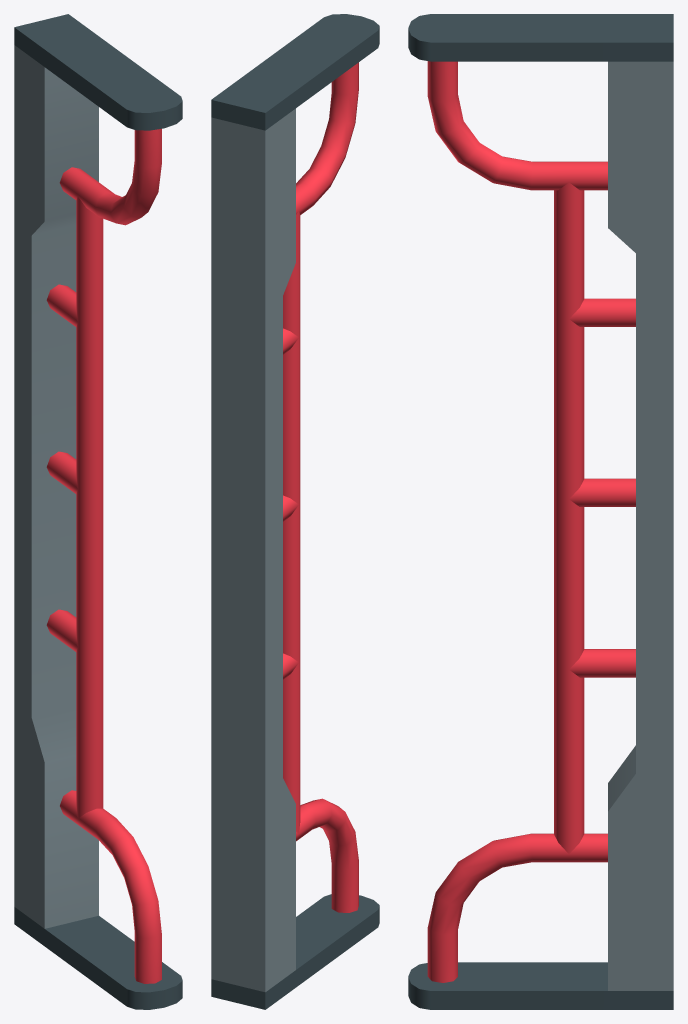
Rendered from Column_007.glb.
3 renders of one model, left to right at view 1: azimuth 30°, elevation 25°; view 2: azimuth 150°, elevation 25°; view 3: azimuth 270°, elevation 25°, orthographic. The views are drawn at different scales.
Parts seen in each view (by area): view 1: Column_007; view 2: Column_007; view 3: Column_007.
Part boxes in pixels (left/top/right/bottom): Column_007: left=14, top=14, right=182, bottom=1009; Column_007: left=211, top=14, right=379, bottom=1009; Column_007: left=408, top=14, right=673, bottom=1009.
Size of the model in its own units: 0.2406 by 3.8 by 0.9457.
1 material, 1 textured.
